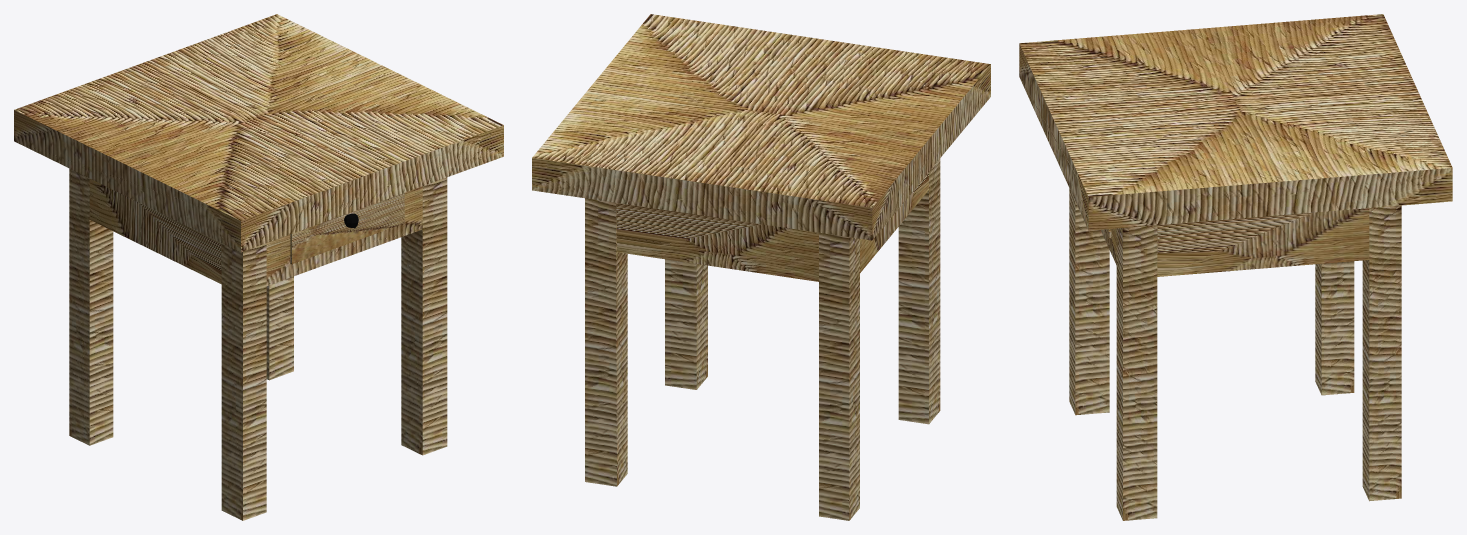
The model's file is Comodino.fbx.
3 views of the same model, side by side, from view 1: azimuth 30°, elevation 25°; view 2: azimuth 150°, elevation 25°; view 3: azimuth 270°, elevation 25° (orthographic). The views are drawn at different scales.
Visible parts, largest first — view 1: Tavolo, Cassetto; view 2: Tavolo; view 3: Tavolo.
Part boxes in pixels (<box>): Tavolo: <box>14,14,503,520</box>; Cassetto: <box>290,193,404,264</box>; Tavolo: <box>532,14,990,520</box>; Tavolo: <box>1019,14,1452,520</box>.
Bounding box in the file's own units: 314 × 276 × 314.
